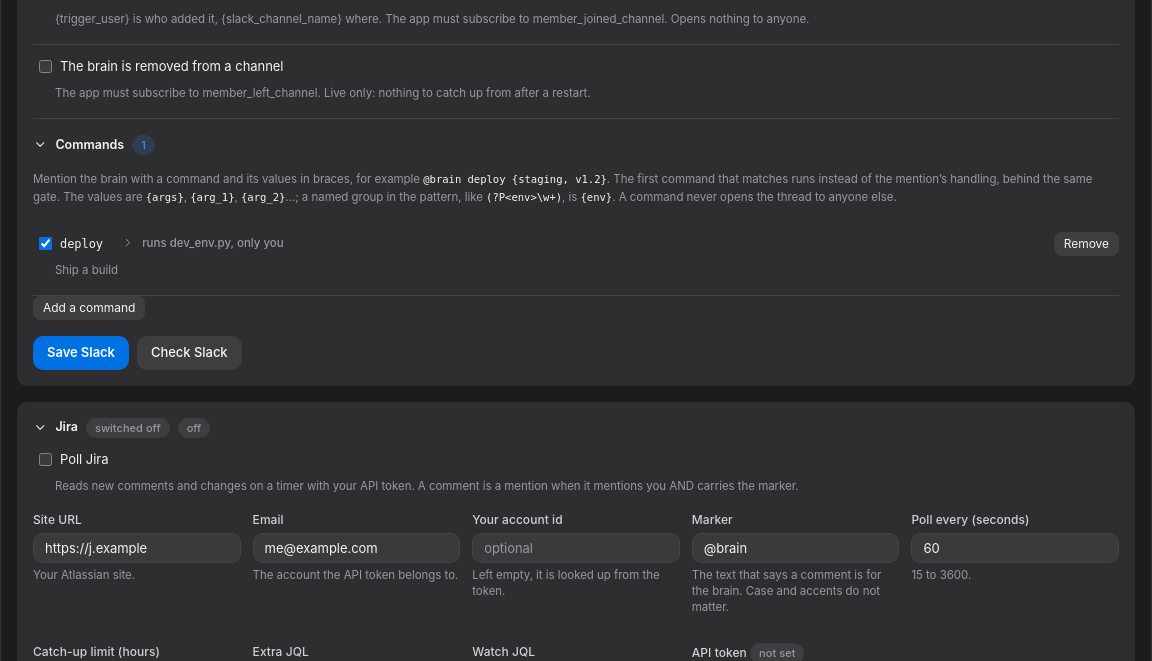
Triggers › says what is wrong when a check fails
This screenshot has width=1152, height=661.
(page scrolled)
Click the button "Check Slack". click: coordinates (189, 353)
box: [137, 336, 242, 370]
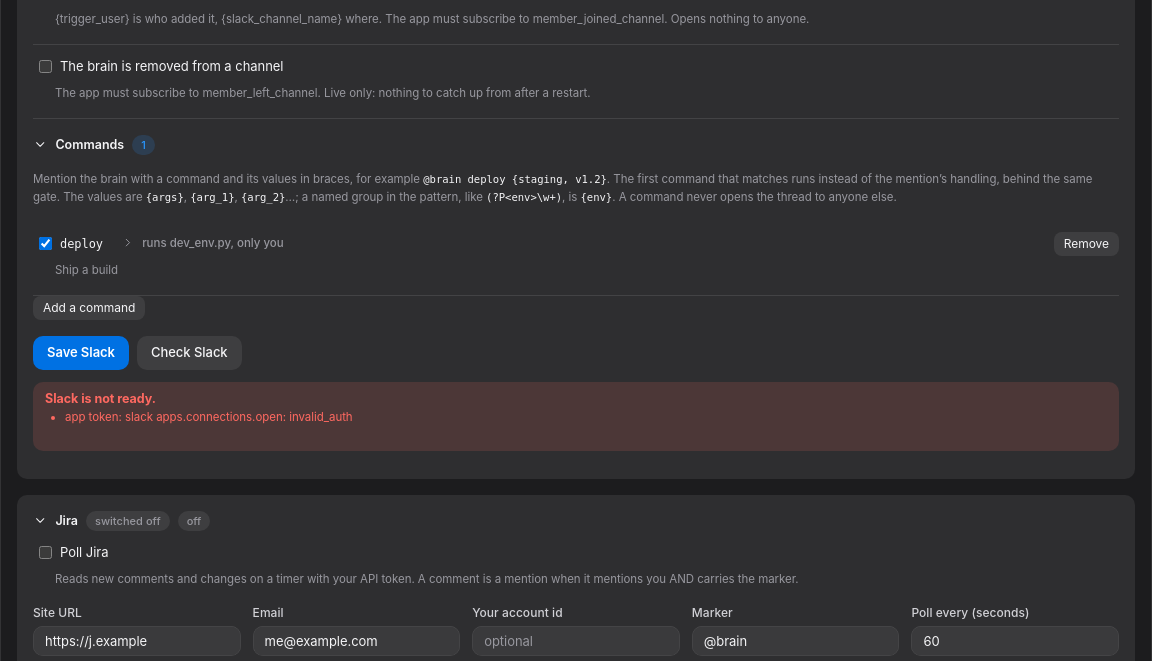
Now the text "Slack is not ready." is shown, box [45, 390, 156, 406]
Now the list item "app token: slack apps.connections.open: invalid_auth" is shown, box [65, 410, 353, 424]
